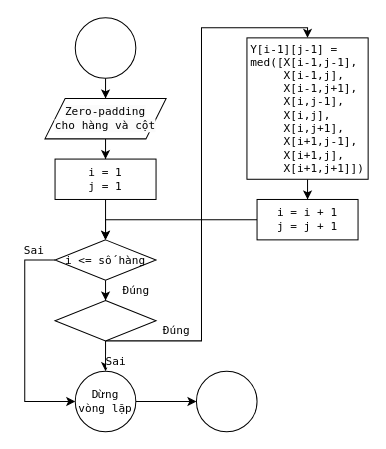
Image size: 386x449. Some labels were removed from this diagram. The shapes that lost their labels are listed below. From the top down, each one's centre as x and y in pixels, then its label:
the point at 105,47: Ảnh ngõ vào X
the point at 105,320: j <= số cột
the point at 226,401: Ảnh ngõ ra Y
